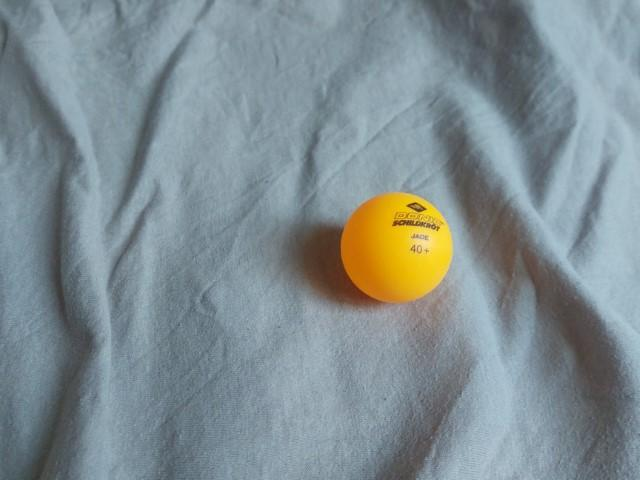oball: (333, 186, 459, 311)
